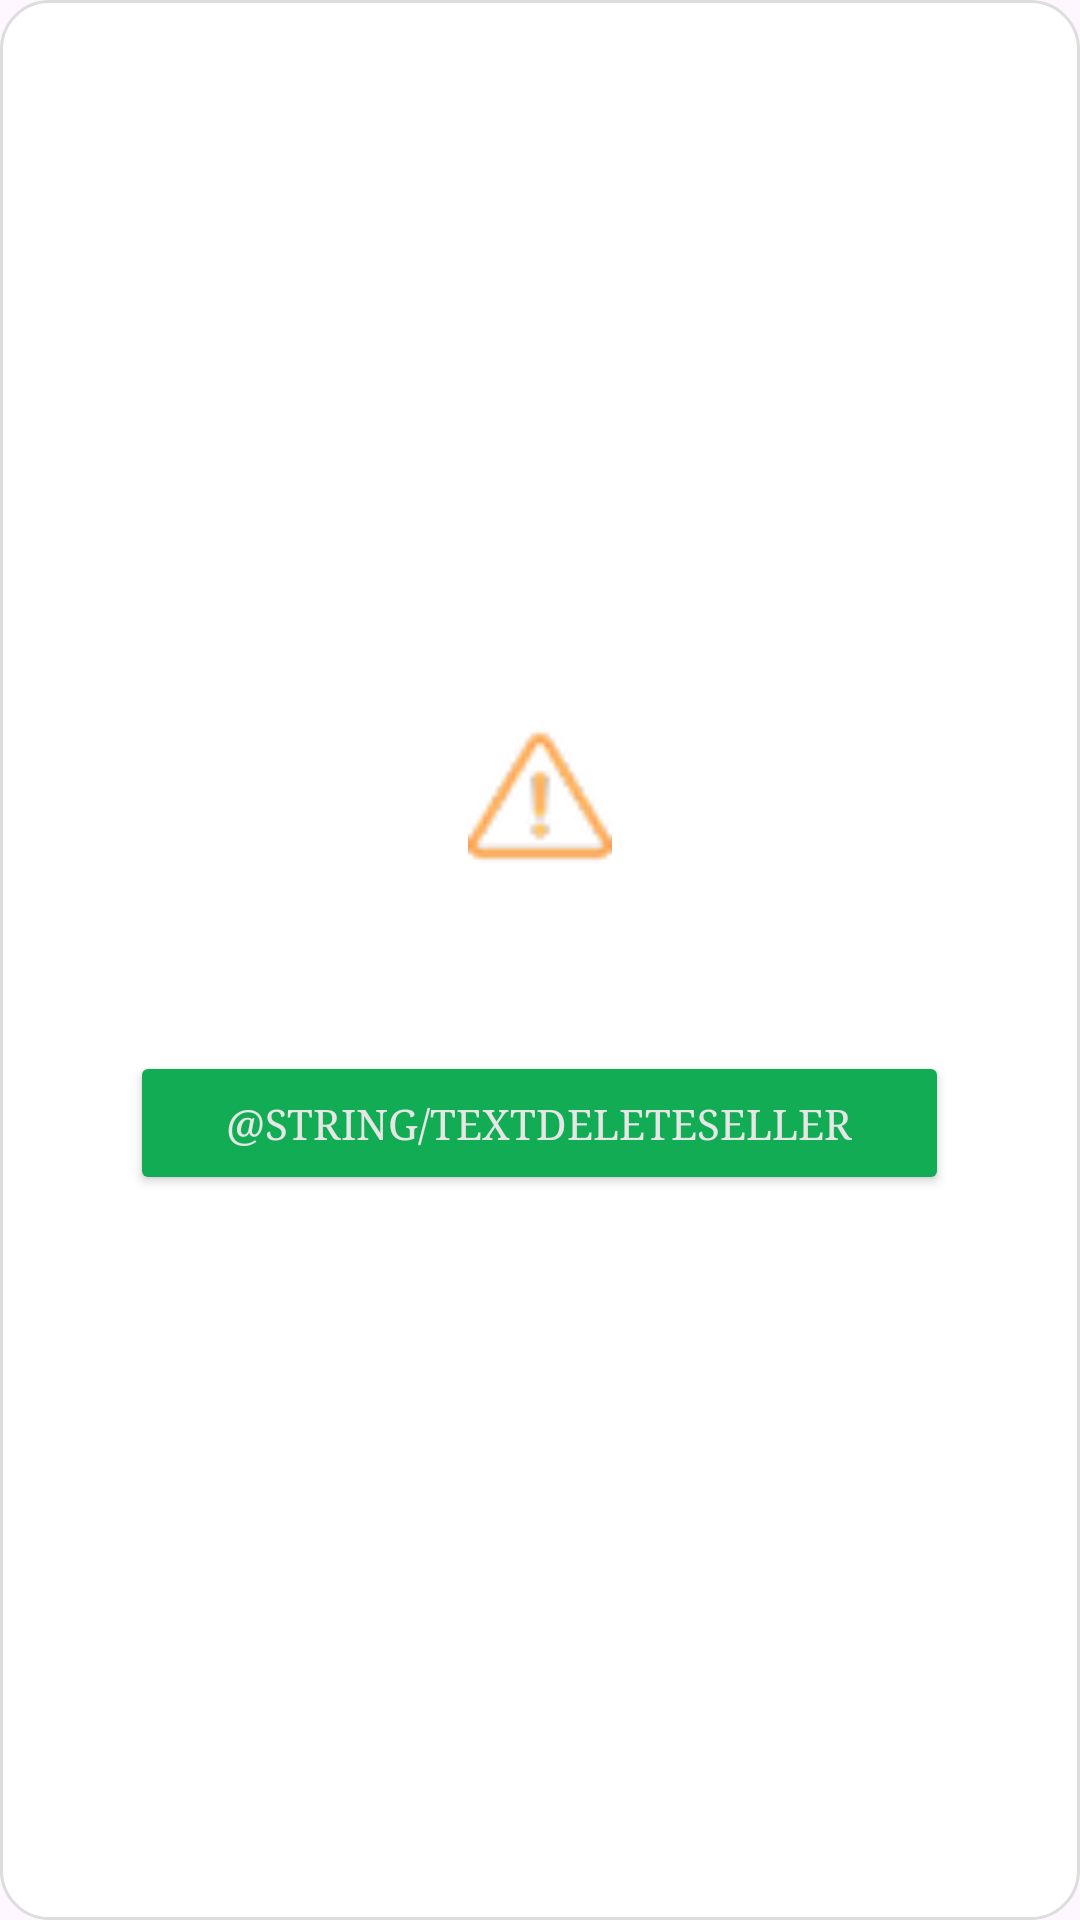

Icon click points for this 1080w x 1920h phone screenshot, format (x,y):
warning: (540,796)
